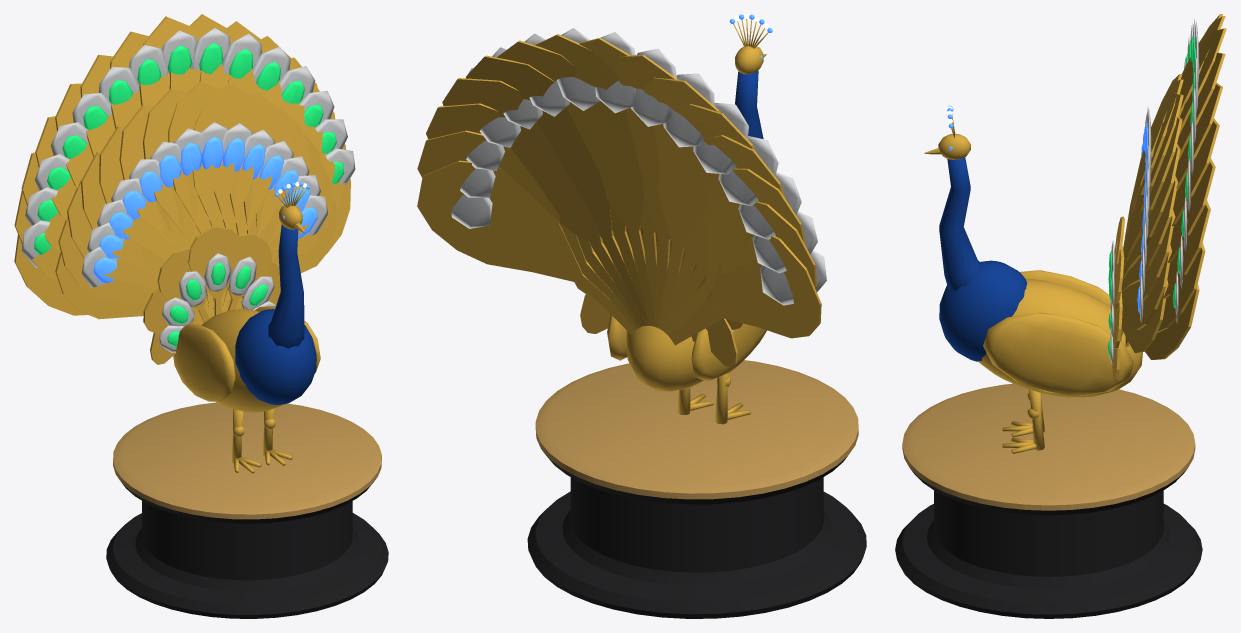
The model's file is peacock.glb.
3 views of the same model, side by side, from view 1: azimuth 30°, elevation 25°; view 2: azimuth 150°, elevation 25°; view 3: azimuth 270°, elevation 25° (orthographic). The views are drawn at different scales.
Visible parts, largest first — view 1: peacock_gold, peacock_marble_black, peacock_brass, peacock_platinum, peacock_enamel_blue, peacock_glow_gem_green, peacock_glow_gem; view 2: peacock_gold, peacock_marble_black, peacock_brass, peacock_platinum, peacock_enamel_blue; view 3: peacock_gold, peacock_marble_black, peacock_brass, peacock_enamel_blue, peacock_platinum, peacock_glow_gem_green, peacock_glow_gem.
Boxes of the visible parts, <box> form: peacock_gold: <box>14,14,350,473</box>; peacock_marble_black: <box>106,479,388,618</box>; peacock_brass: <box>113,402,381,519</box>; peacock_platinum: <box>21,28,355,352</box>; peacock_enamel_blue: <box>235,224,316,404</box>; peacock_glow_gem_green: <box>34,42,344,346</box>; peacock_glow_gem: <box>93,136,317,283</box>; peacock_gold: <box>417,19,821,424</box>; peacock_marble_black: <box>527,453,866,618</box>; peacock_brass: <box>535,360,858,499</box>; peacock_platinum: <box>451,28,826,332</box>; peacock_enamel_blue: <box>735,71,763,138</box>; peacock_gold: <box>924,14,1226,453</box>; peacock_marble_black: <box>895,469,1202,618</box>; peacock_brass: <box>902,383,1195,510</box>; peacock_enamel_blue: <box>939,157,1027,361</box>; peacock_platinum: <box>1110,18,1199,364</box>; peacock_glow_gem_green: <box>1108,35,1195,356</box>; peacock_glow_gem: <box>947,105,1147,313</box>.
Size of the model in its own units: 0.8627 by 1.19 by 0.6796.
